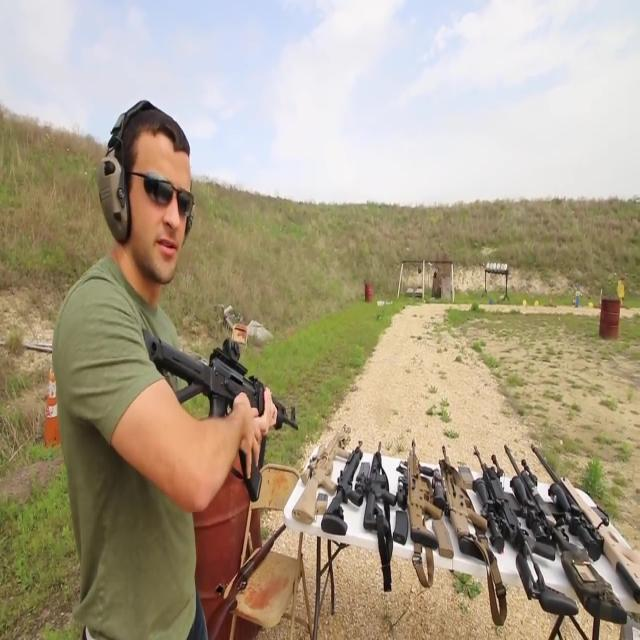Weapon: (288, 388, 640, 633), (97, 310, 314, 492)
